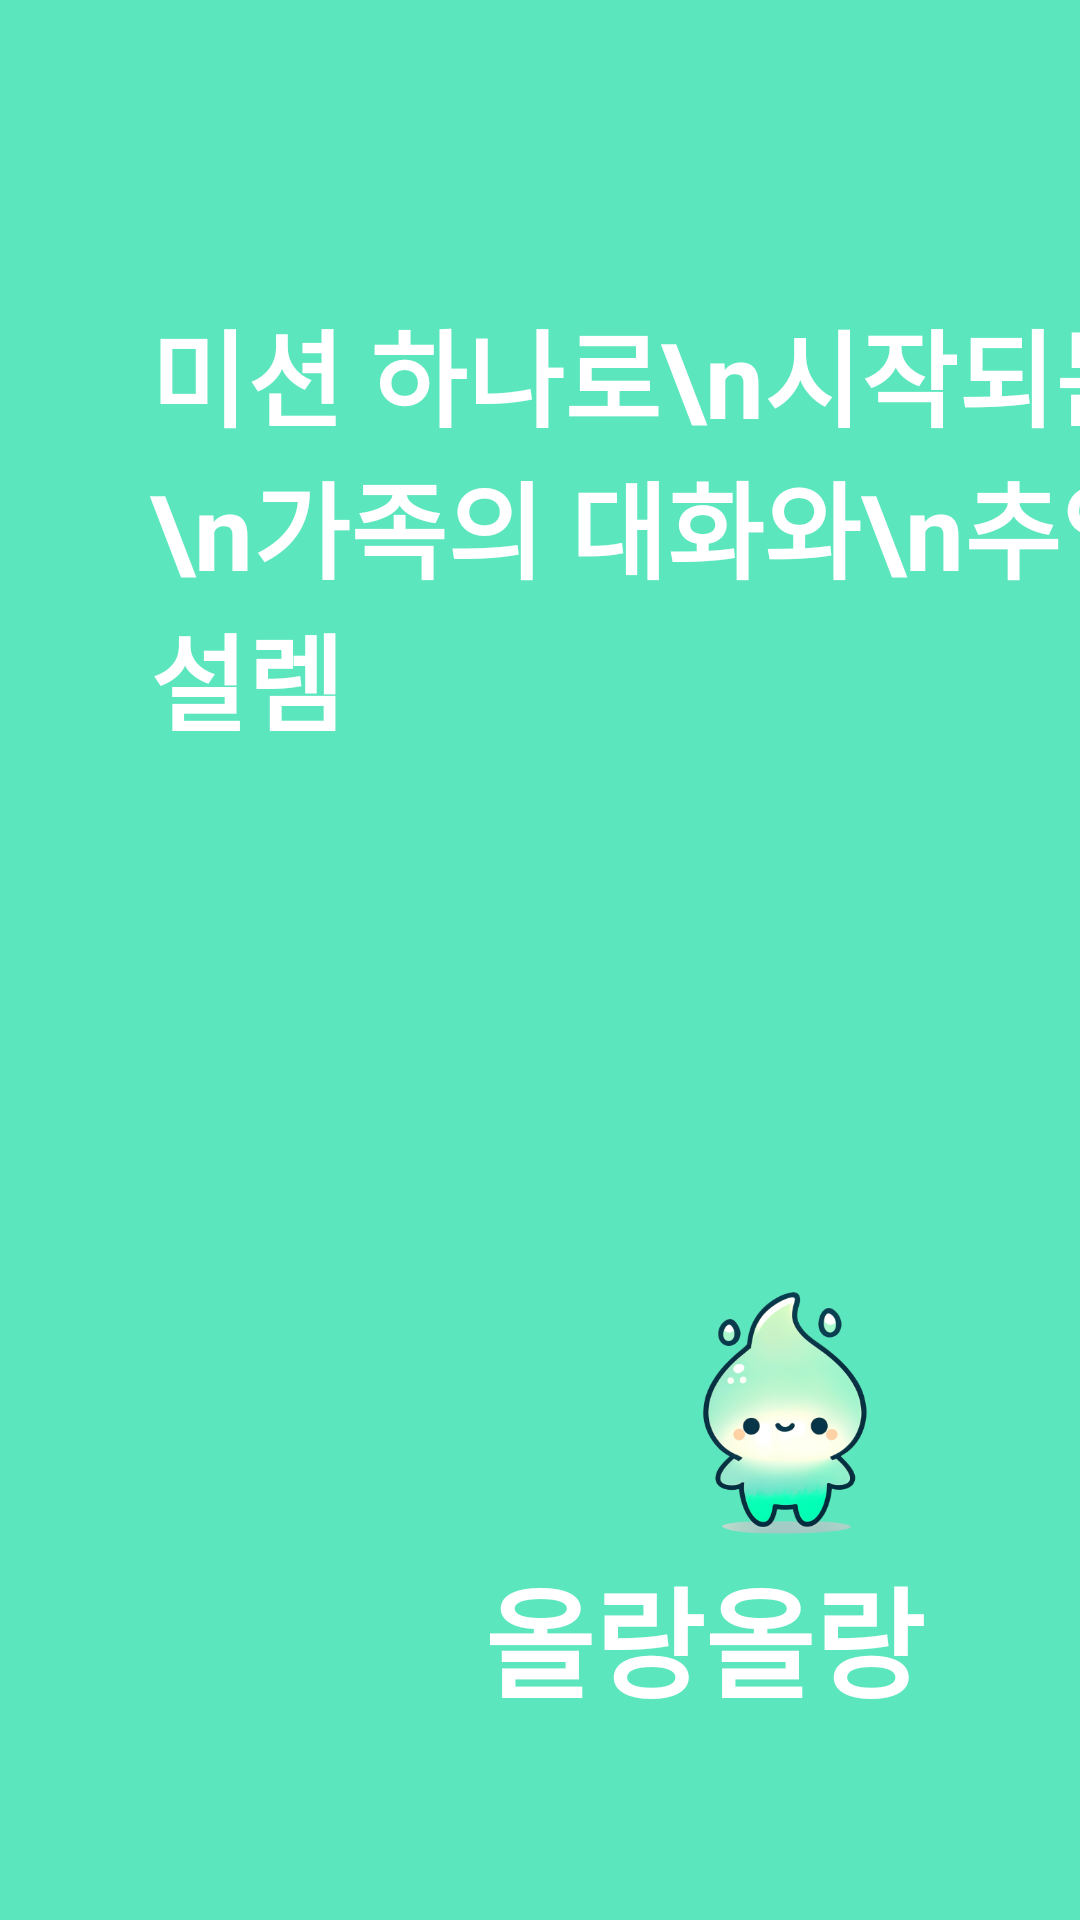

Where icons sit on this 1080×1920 app screen, as (x1, y1, x2, y2):
character: (703, 1292, 867, 1534)
